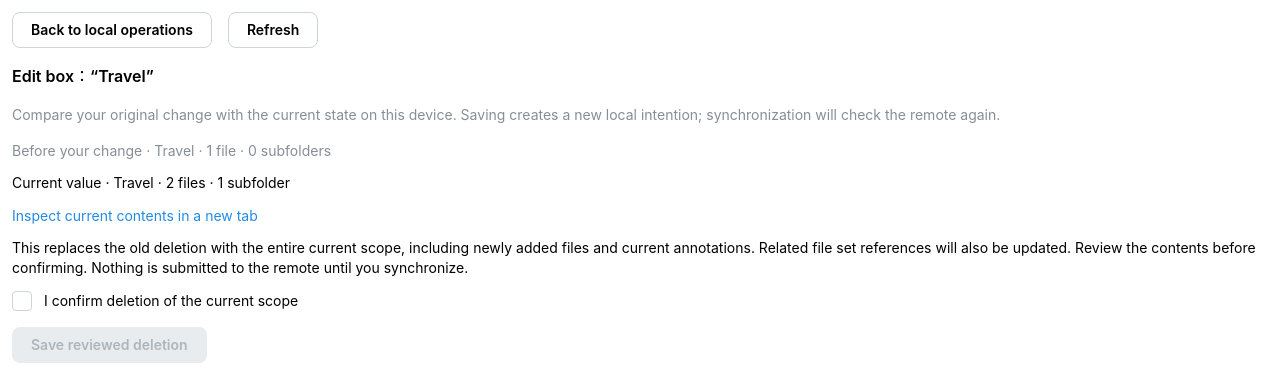
Scenario: clears deletion confirmation when refreshing the reviewed scope
Click the checkbox labelled "I confirm deletion of the current scope" at (22, 301), box [12,291,32,311]
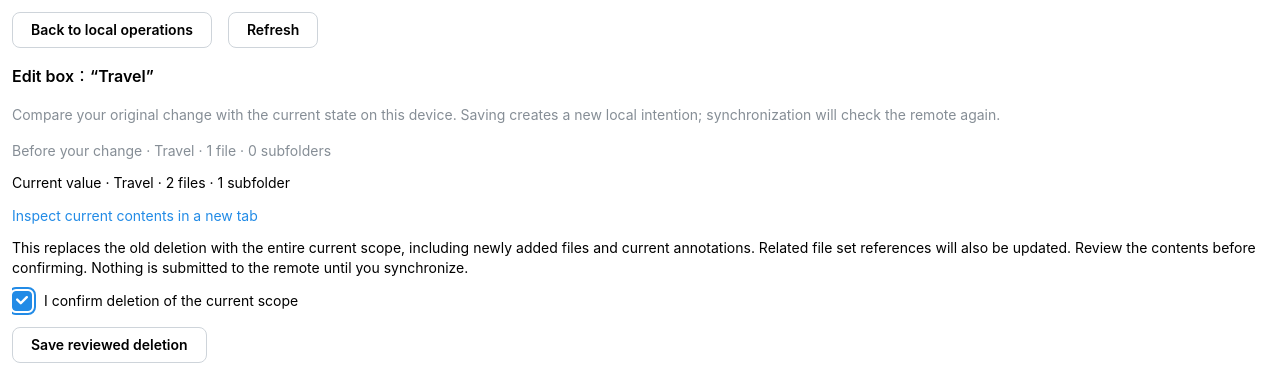
Click the button "Refresh" at (273, 30), box [228,12,318,48]
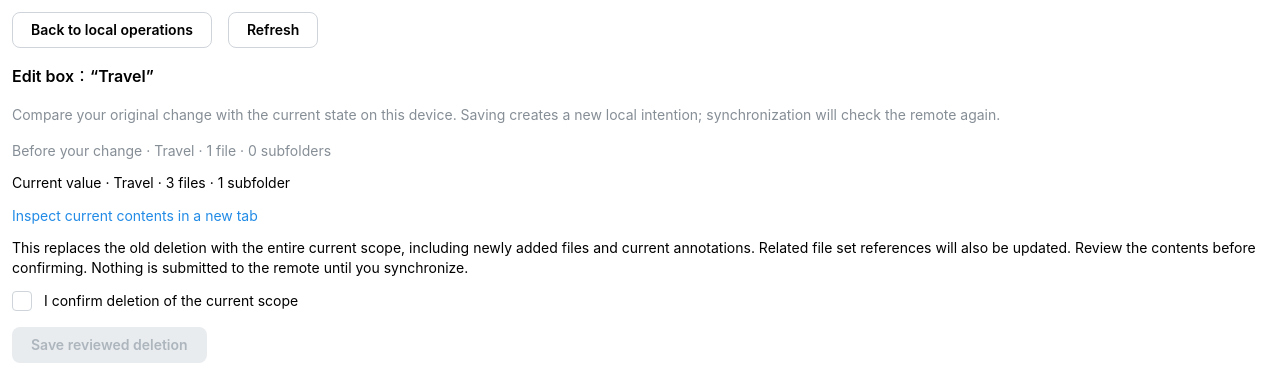
Result: the text "Current value · Travel · 3 files · 1 subfolder" is shown at [12,174,290,191]
Result: the checkbox labelled "I confirm deletion of the current scope" is not checked at [12,291,32,311]
Result: the button "Save reviewed deletion" is disabled at [12,327,207,363]
